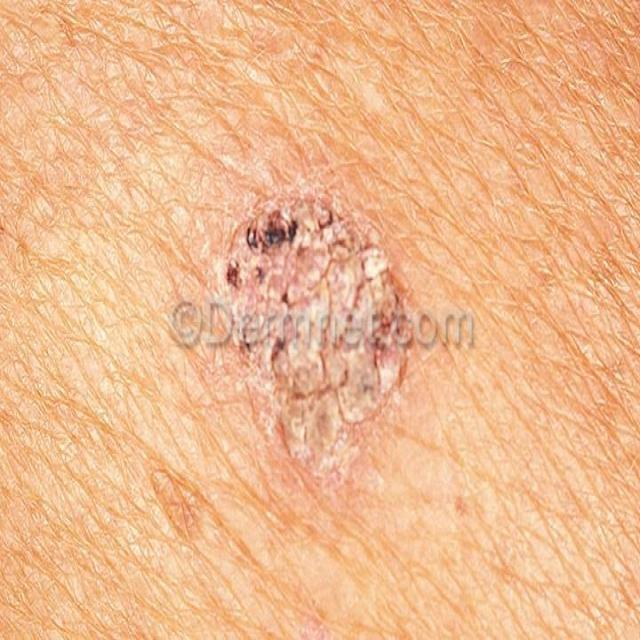Eczema: (168, 174, 466, 496)
